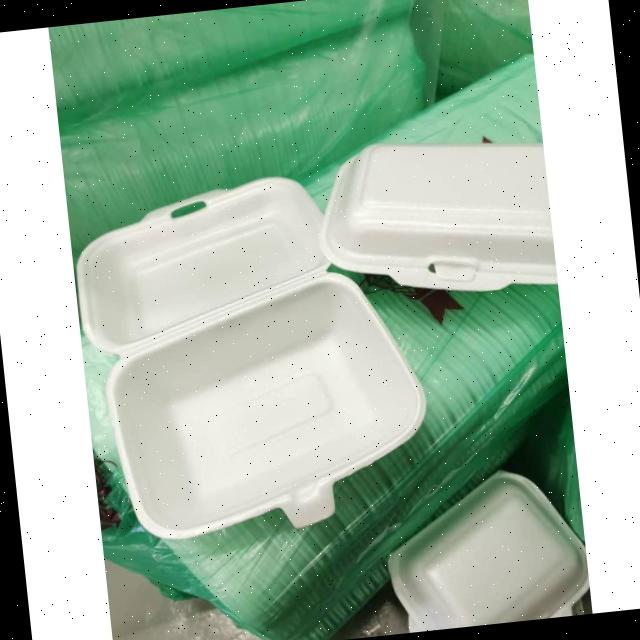styrofoam: (68, 160, 440, 549), (377, 461, 592, 634)
